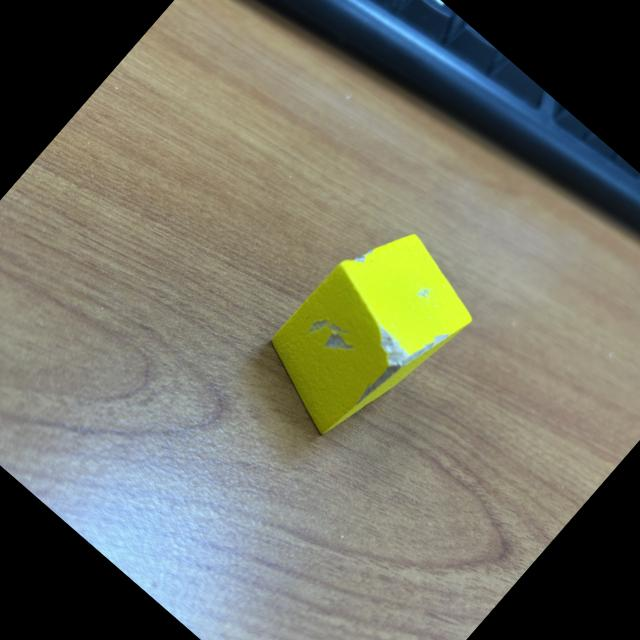broken: (244, 208, 490, 462)
